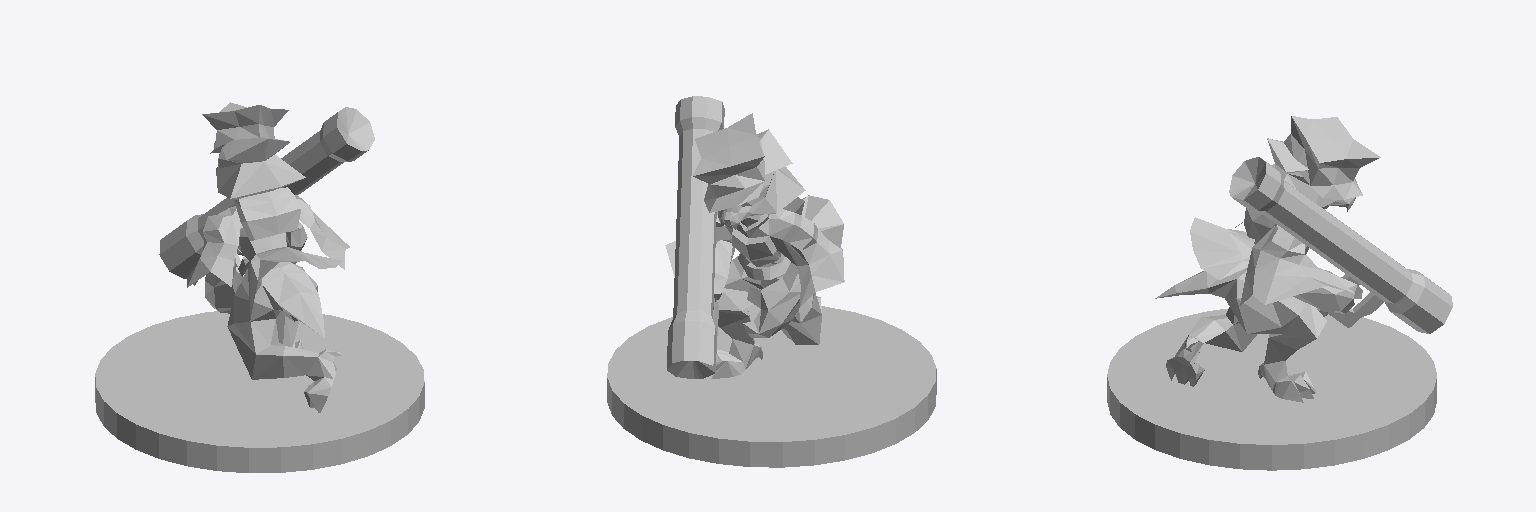
The model's file is kobold_linear_blaster_trooper_05.obj.
3 renders of one model, left to right at view 1: azimuth 30°, elevation 25°; view 2: azimuth 150°, elevation 25°; view 3: azimuth 270°, elevation 25°, orthographic.
Visible parts, largest first — view 1: Cylinder, Cube, Cube.002_Cube.003, Cylinder.001, Cube.003_Cube.001; view 2: Cylinder, Cube, Cylinder.001, Cube.002_Cube.003, Cube.003_Cube.001; view 3: Cylinder, Cube, Cylinder.001, Cube.002_Cube.003, Cube.003_Cube.001.
Part boxes in pixels (x1,y1,x2,y2): Cylinder: (95, 311, 424, 472); Cube: (205, 137, 341, 412); Cube.002_Cube.003: (187, 187, 349, 318); Cylinder.001: (159, 107, 374, 278); Cube.003_Cube.001: (202, 102, 288, 153); Cylinder: (607, 304, 936, 467); Cube: (711, 129, 821, 378); Cylinder.001: (667, 96, 724, 378); Cube.002_Cube.003: (665, 195, 844, 306); Cube.003_Cube.001: (693, 113, 764, 212); Cylinder: (1107, 308, 1436, 470); Cube: (1155, 138, 1362, 402); Cylinder.001: (1229, 157, 1452, 333); Cube.002_Cube.003: (1190, 208, 1353, 305); Cube.003_Cube.001: (1284, 116, 1380, 199).
Bounding box in the file's own units: 2.1 × 2.03 × 2.2.